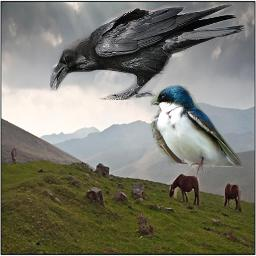Crow: (50, 4, 246, 100)
Swallow: (150, 84, 244, 180)
